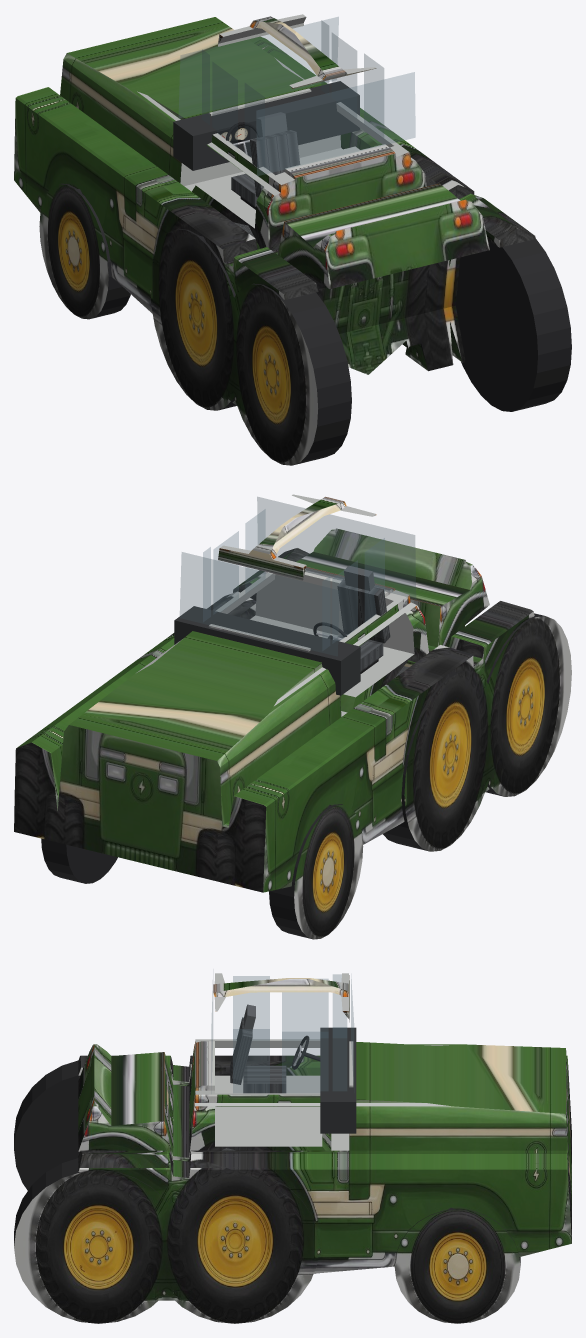
The model's file is row_crop_tractor.glb.
The picture shows the model from 3 angles, top to bottom: view 1: azimuth 30°, elevation 25°; view 2: azimuth 150°, elevation 25°; view 3: azimuth 270°, elevation 25°; orthographic projection. The views are drawn at different scales.
Visible parts, largest first — view 1: row_crop_tractor, row_crop_tractor_cabin, wheel_BL, wheel_BR, wheel_M1L, wheel_FL; view 2: row_crop_tractor, row_crop_tractor_cabin, wheel_M1L, wheel_BL, wheel_FL, wheel_FR; view 3: row_crop_tractor, wheel_BR, wheel_M1R, row_crop_tractor_cabin, wheel_FR, wheel_BL.
Boxes of the visible parts, x1,y1,x2,y2 form: row_crop_tractor: [14, 14, 535, 405]; row_crop_tractor_cabin: [173, 17, 415, 237]; wheel_BL: [225, 283, 351, 465]; wheel_BR: [456, 238, 571, 411]; wheel_M1L: [150, 228, 242, 410]; wheel_FL: [39, 183, 130, 319]; row_crop_tractor: [14, 494, 534, 892]; row_crop_tractor_cabin: [174, 497, 415, 695]; wheel_M1L: [383, 670, 497, 851]; wheel_BL: [479, 613, 571, 796]; wheel_FL: [269, 804, 363, 939]; wheel_FR: [41, 838, 117, 883]; row_crop_tractor: [78, 973, 571, 1300]; wheel_BR: [14, 1158, 182, 1323]; wheel_M1R: [150, 1168, 319, 1323]; row_crop_tractor_cabin: [211, 974, 356, 1150]; wheel_FR: [394, 1207, 520, 1323]; wheel_BL: [14, 1060, 79, 1190].
Size of the model in its own units: 2.97 by 3.57 by 6.23.
Materials: 12 (4 with a texture image).
